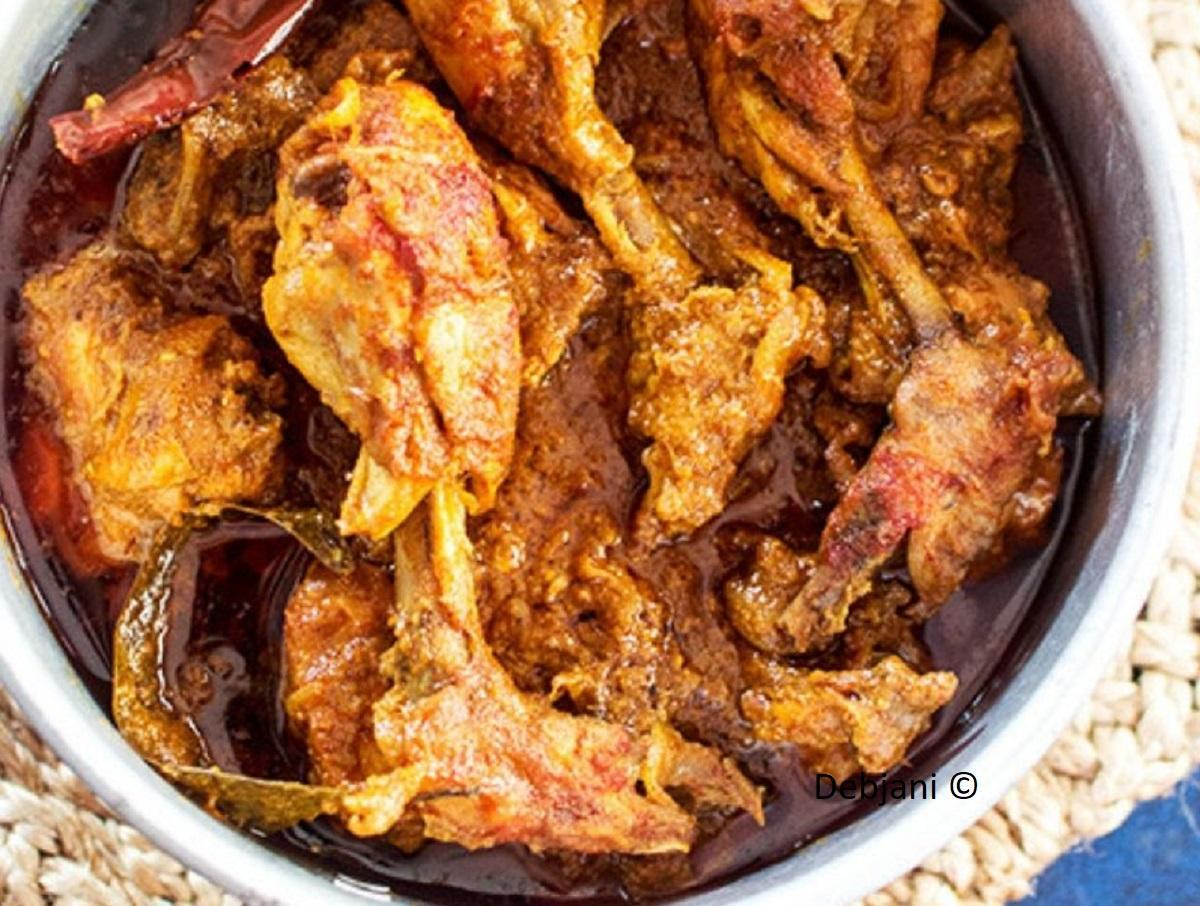chicken: (33, 11, 1112, 890)
